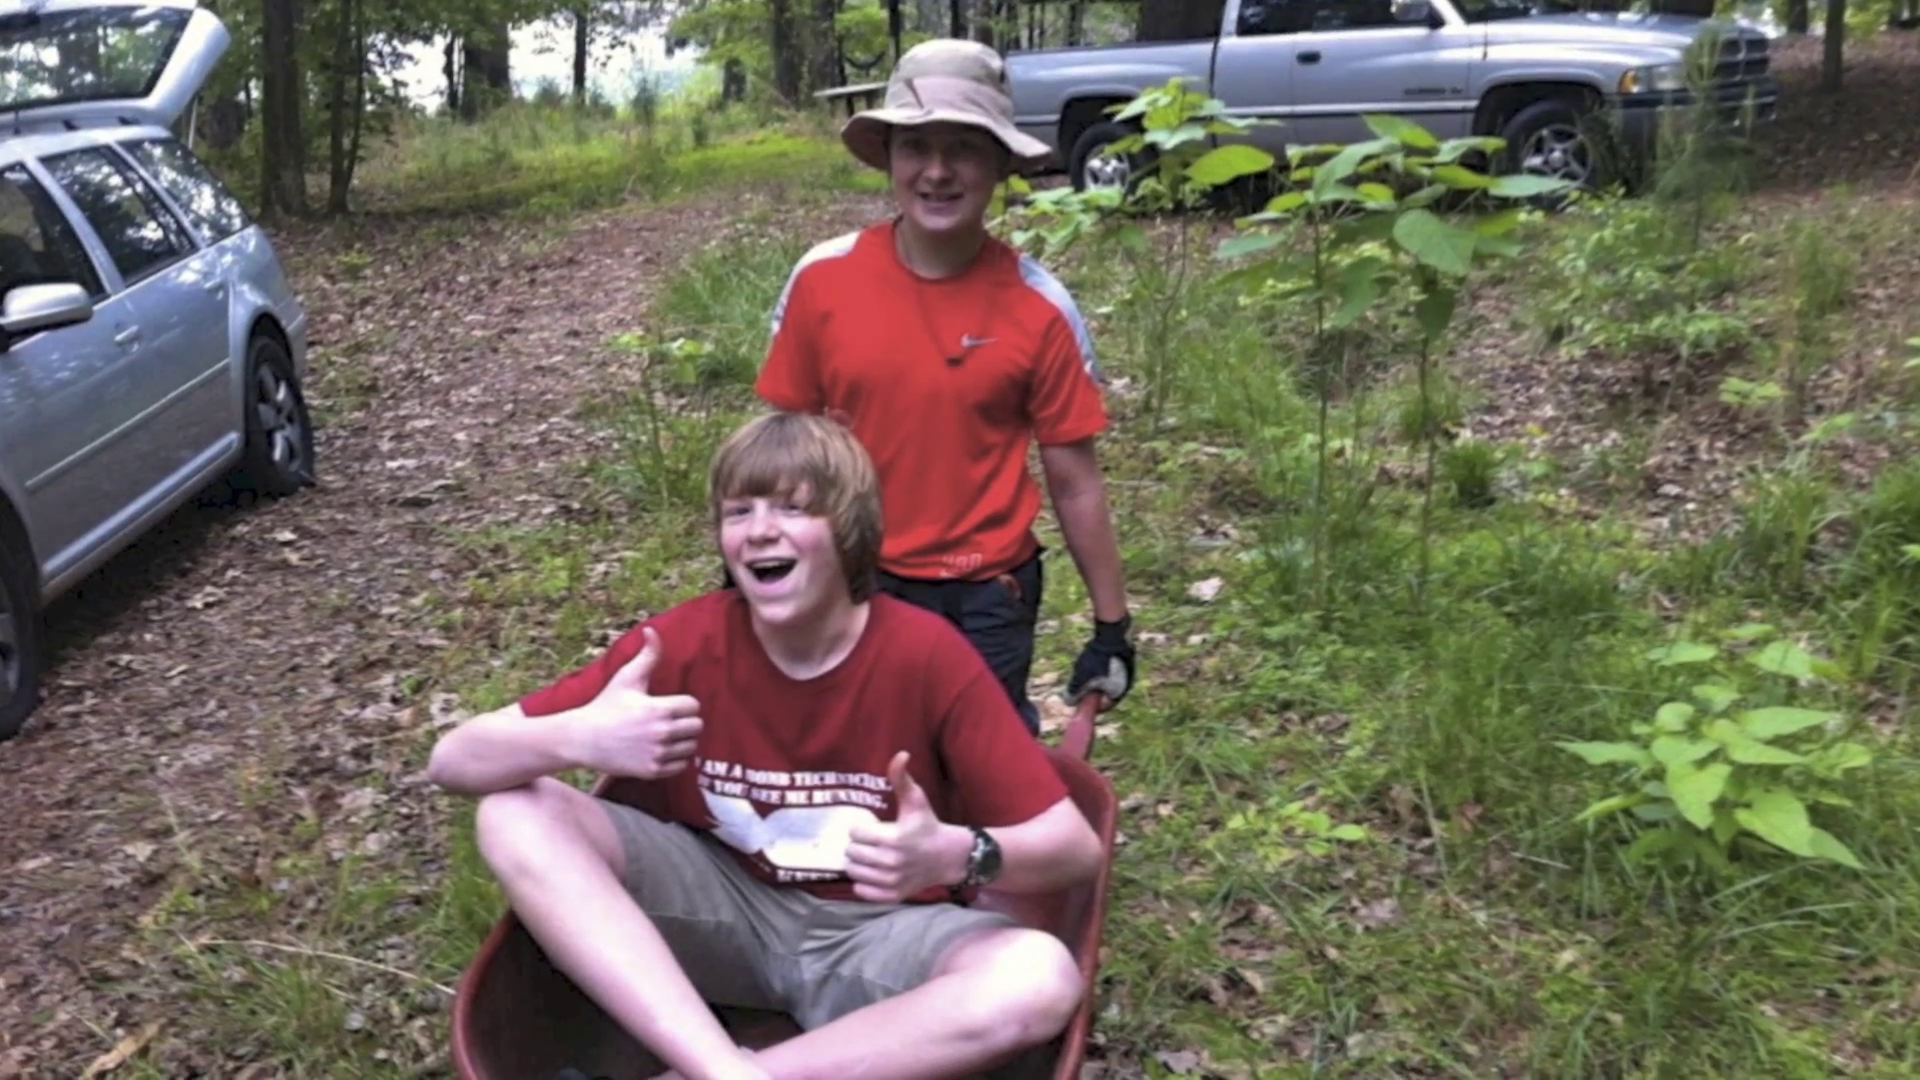person: (426, 411, 1102, 1080), (754, 40, 1132, 732)
